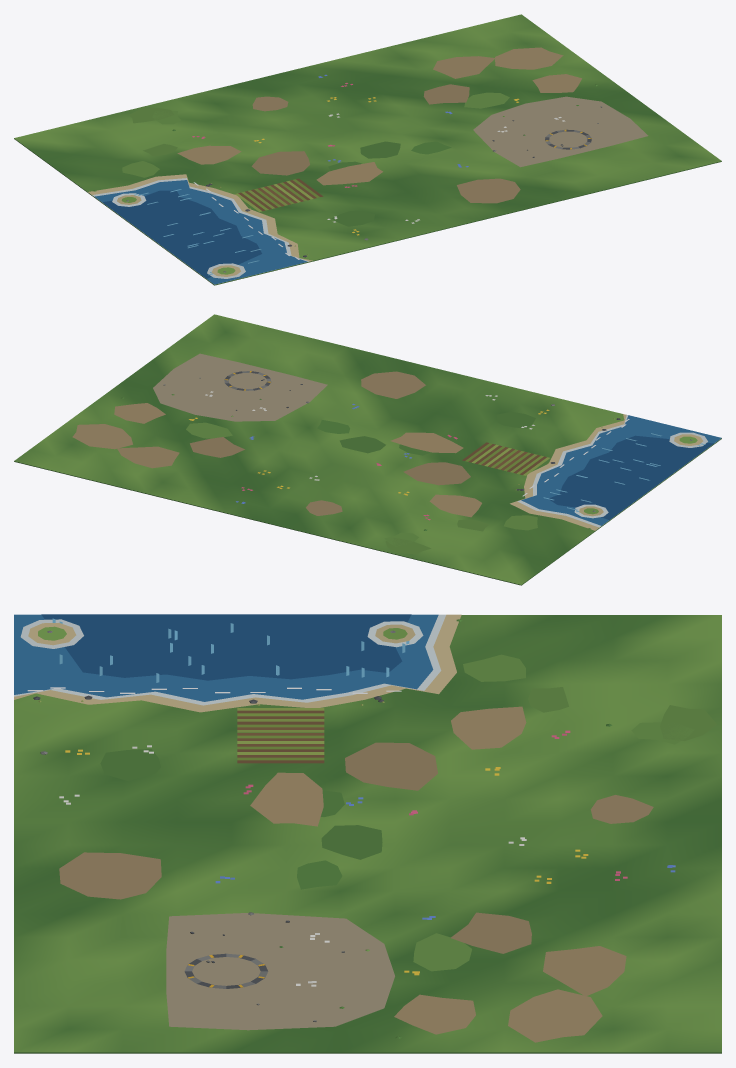
Rendered from Decor_VikingLonghouse_Ground.fbx.
3 views of the same model, one above another, from view 1: azimuth 30°, elevation 25°; view 2: azimuth 150°, elevation 25°; view 3: azimuth 270°, elevation 25° (orthographic). The views are drawn at different scales.
Parts seen in each view (by area): view 1: Ground_Body; view 2: Ground_Body; view 3: Ground_Body.
Part boxes in pixels (x1,y1,x2,y2): Ground_Body: (14,14,721,285); Ground_Body: (14,314,721,585); Ground_Body: (14,614,721,1053).
Size of the model in its own units: 190 by 0.55 by 130.
